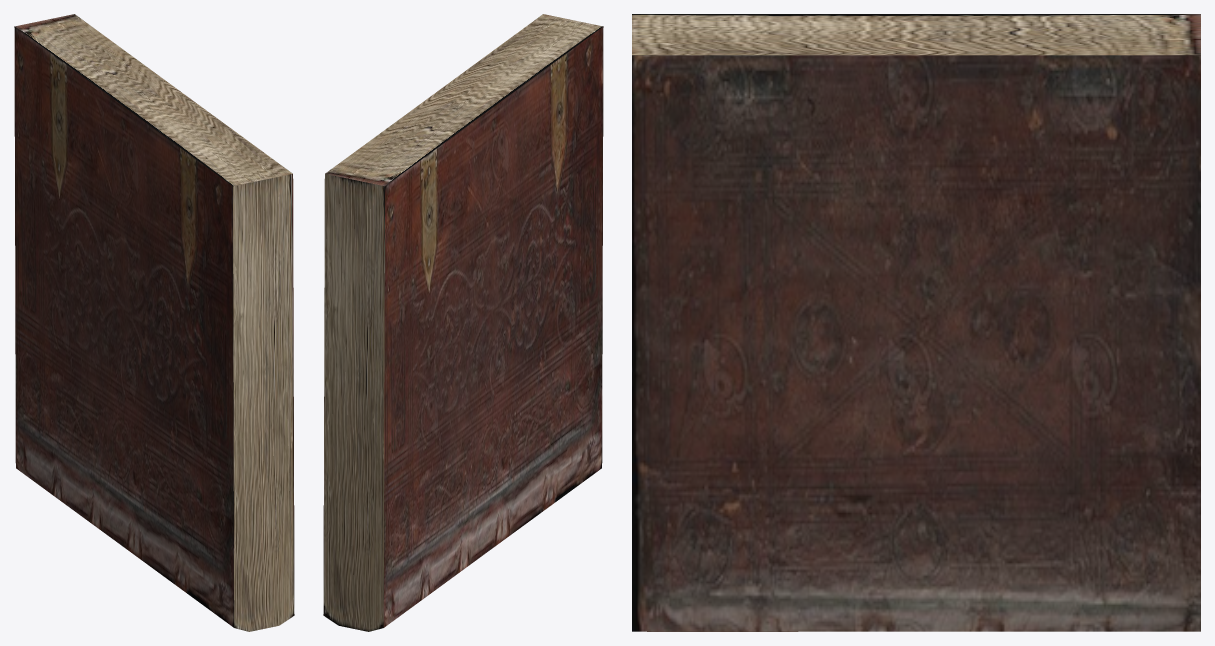
The model's file is book.gltf.
The picture shows the model from 3 angles, left to right: view 1: azimuth 30°, elevation 25°; view 2: azimuth 150°, elevation 25°; view 3: azimuth 270°, elevation 25°; orthographic projection. The views are drawn at different scales.
Parts seen in each view (by area): view 1: Object_4; view 2: Object_4; view 3: Object_4.
Part boxes in pixels (x1,y1,x2,y2): Object_4: (14, 14, 294, 631); Object_4: (323, 14, 603, 631); Object_4: (632, 14, 1200, 631).
Size of the model in its own units: 0.4353 by 3.04 by 2.67.
1 material, 1 textured.
